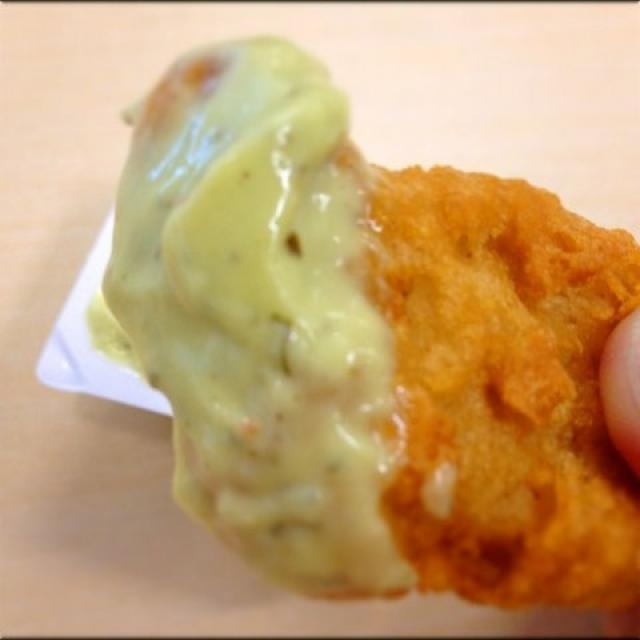Chicken nugget: (65, 24, 639, 620)
